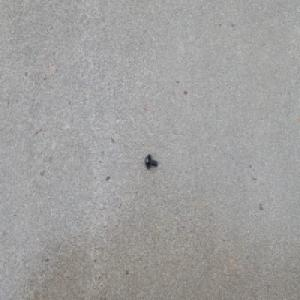BoltWasher: (144, 154, 157, 170)
